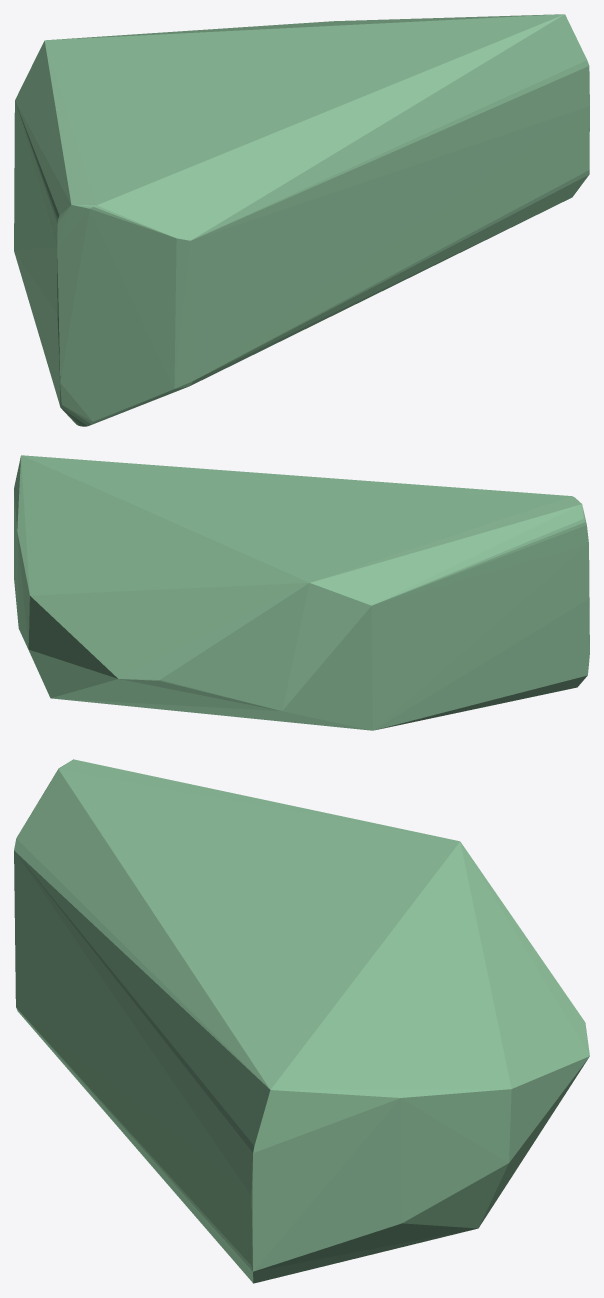
Rendered from cart_mobile_c01.glb.
3 renders of one model, top to bottom at view 1: azimuth 30°, elevation 25°; view 2: azimuth 150°, elevation 25°; view 3: azimuth 270°, elevation 25°, orthographic. The views are drawn at different scales.
Parts seen in each view (by area): view 1: geometry_0; view 2: geometry_0; view 3: geometry_0.
Part boxes in pixels (x1,y1,x2,y2): geometry_0: (14, 14, 589, 426); geometry_0: (14, 455, 589, 730); geometry_0: (14, 759, 589, 1283).
Bounding box in the file's own units: 0.4796 × 0.1665 × 0.3582.
